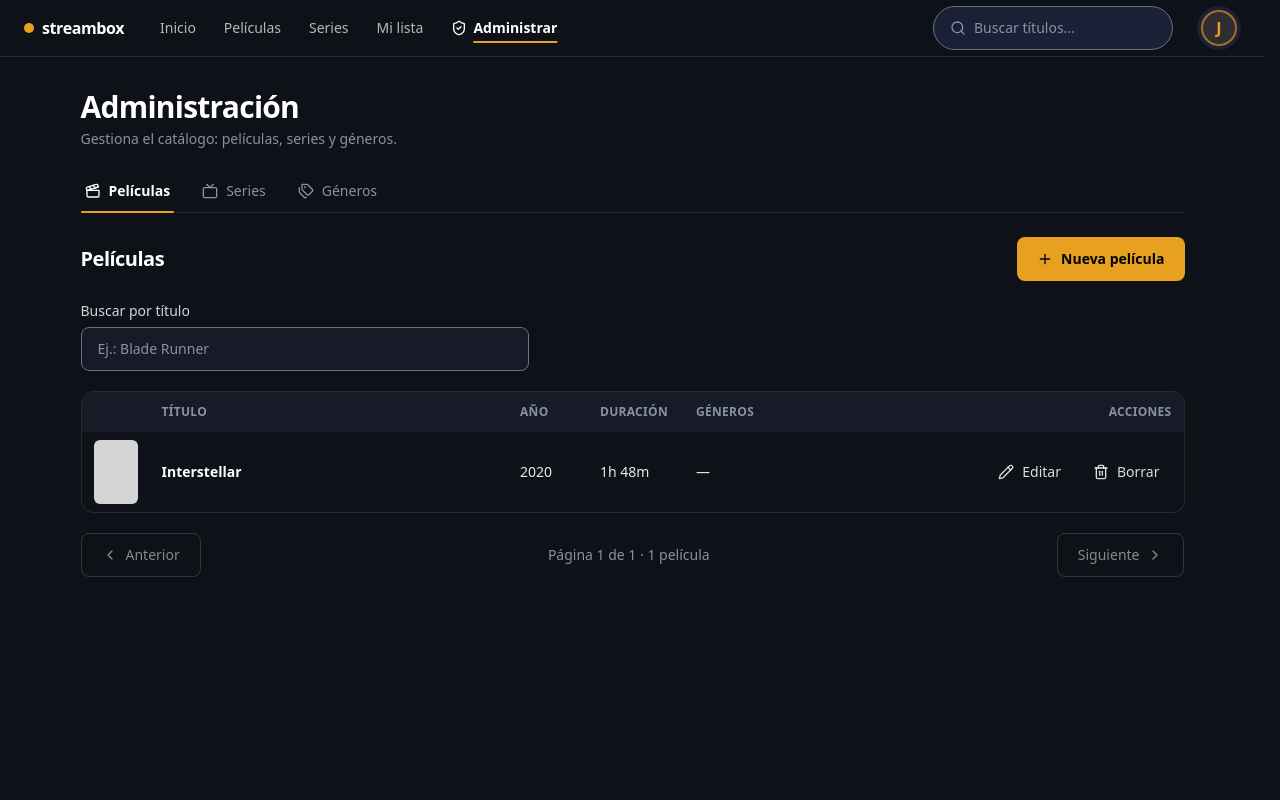
Rutas del panel de administración › las secciones son enlaces (no un tablist): «Géneros» cambia de URL y de sección marcada
Check: the heading "Administración" is shown, box [80,86,299,127]
Click the link "Géneros" at (337, 190), box [298,181,377,200]
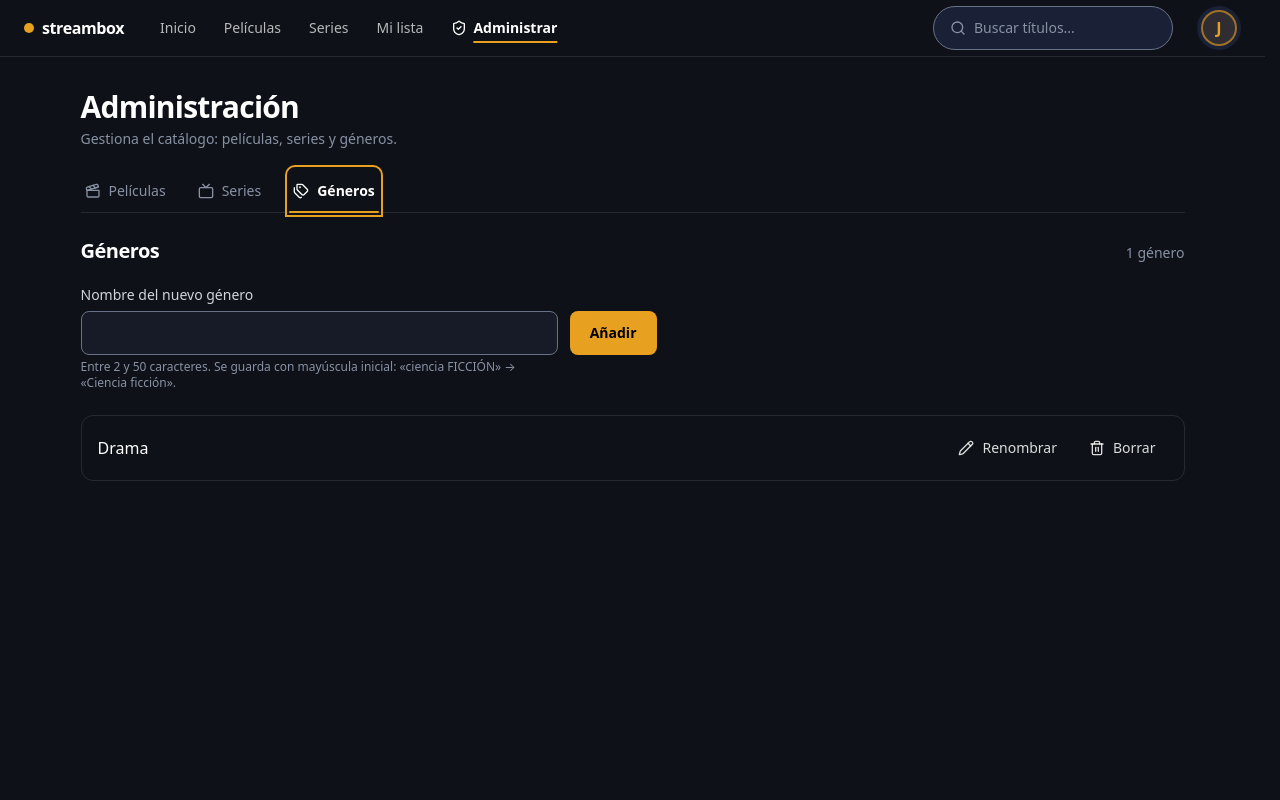
Check: the list named "Géneros" is shown, box [80,415,1184,481]
